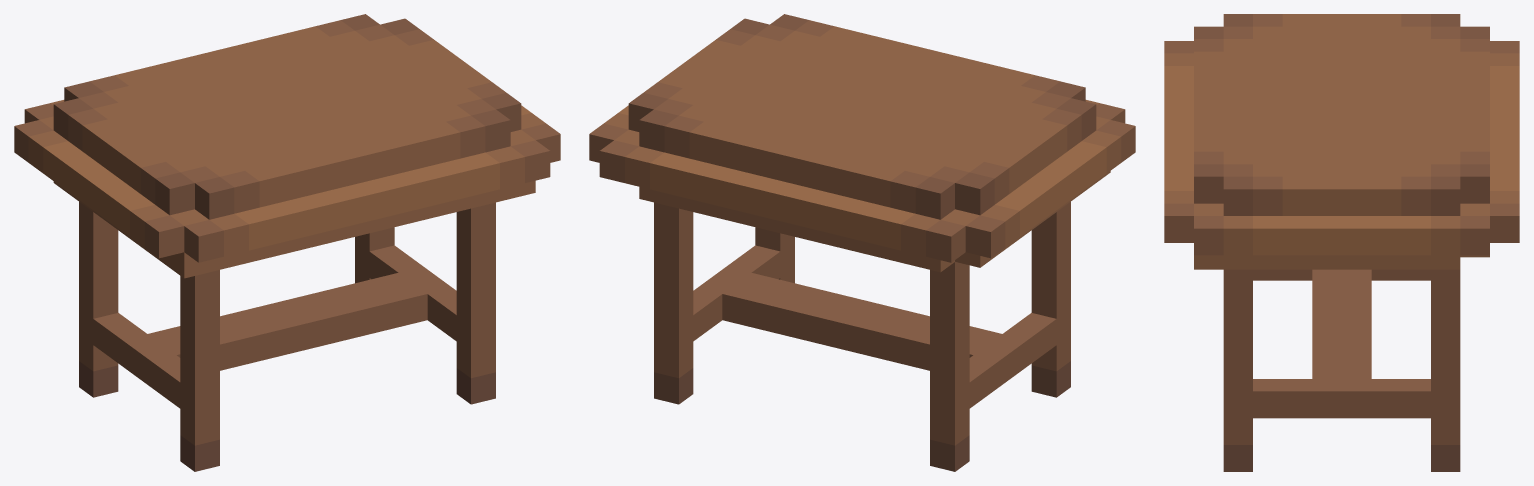
File: Interior_Furniture-18.obj
3 views of the same model, side by side, from view 1: azimuth 30°, elevation 25°; view 2: azimuth 150°, elevation 25°; view 3: azimuth 270°, elevation 25° (orthographic). The views are drawn at different scales.
Size of the model in its own units: 1.6 by 1.1 by 1.2.
1 material, 1 textured.
